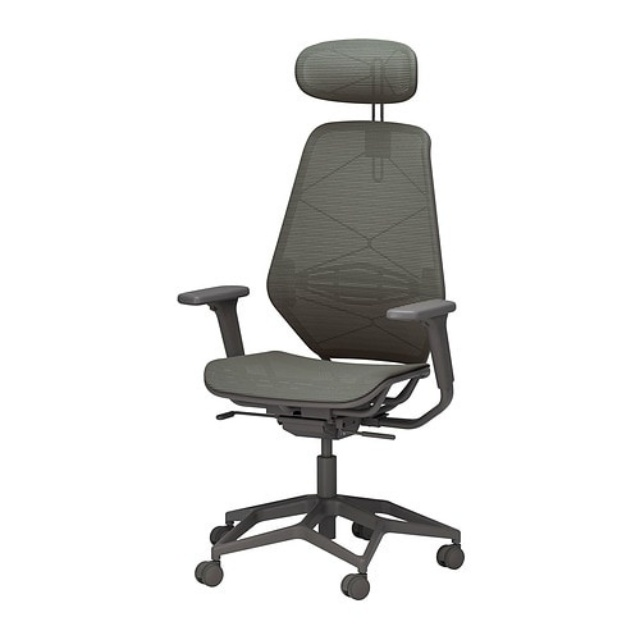obstacle: (178, 40, 463, 599)
